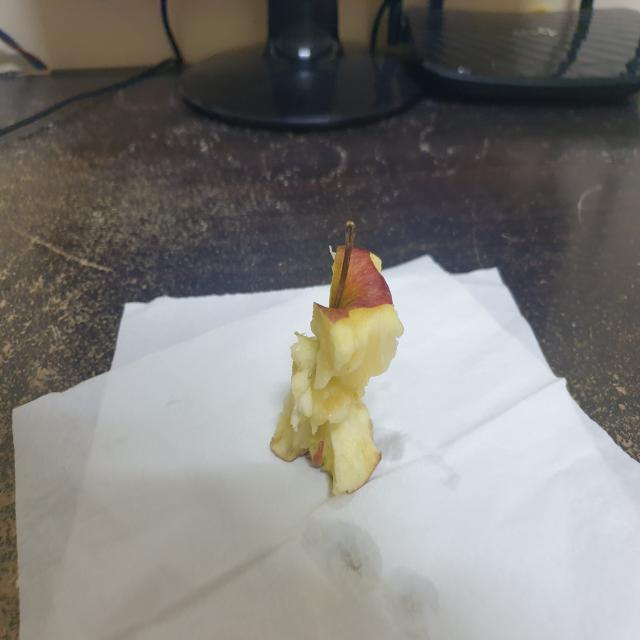apple: (268, 212, 407, 510)
